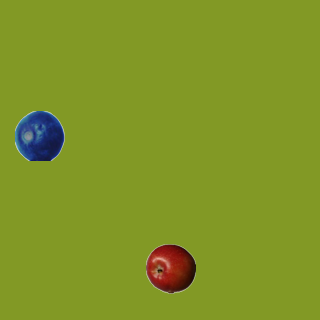Apple Braeburn: (145, 243, 195, 293)
Huckleberry: (14, 110, 64, 160)
